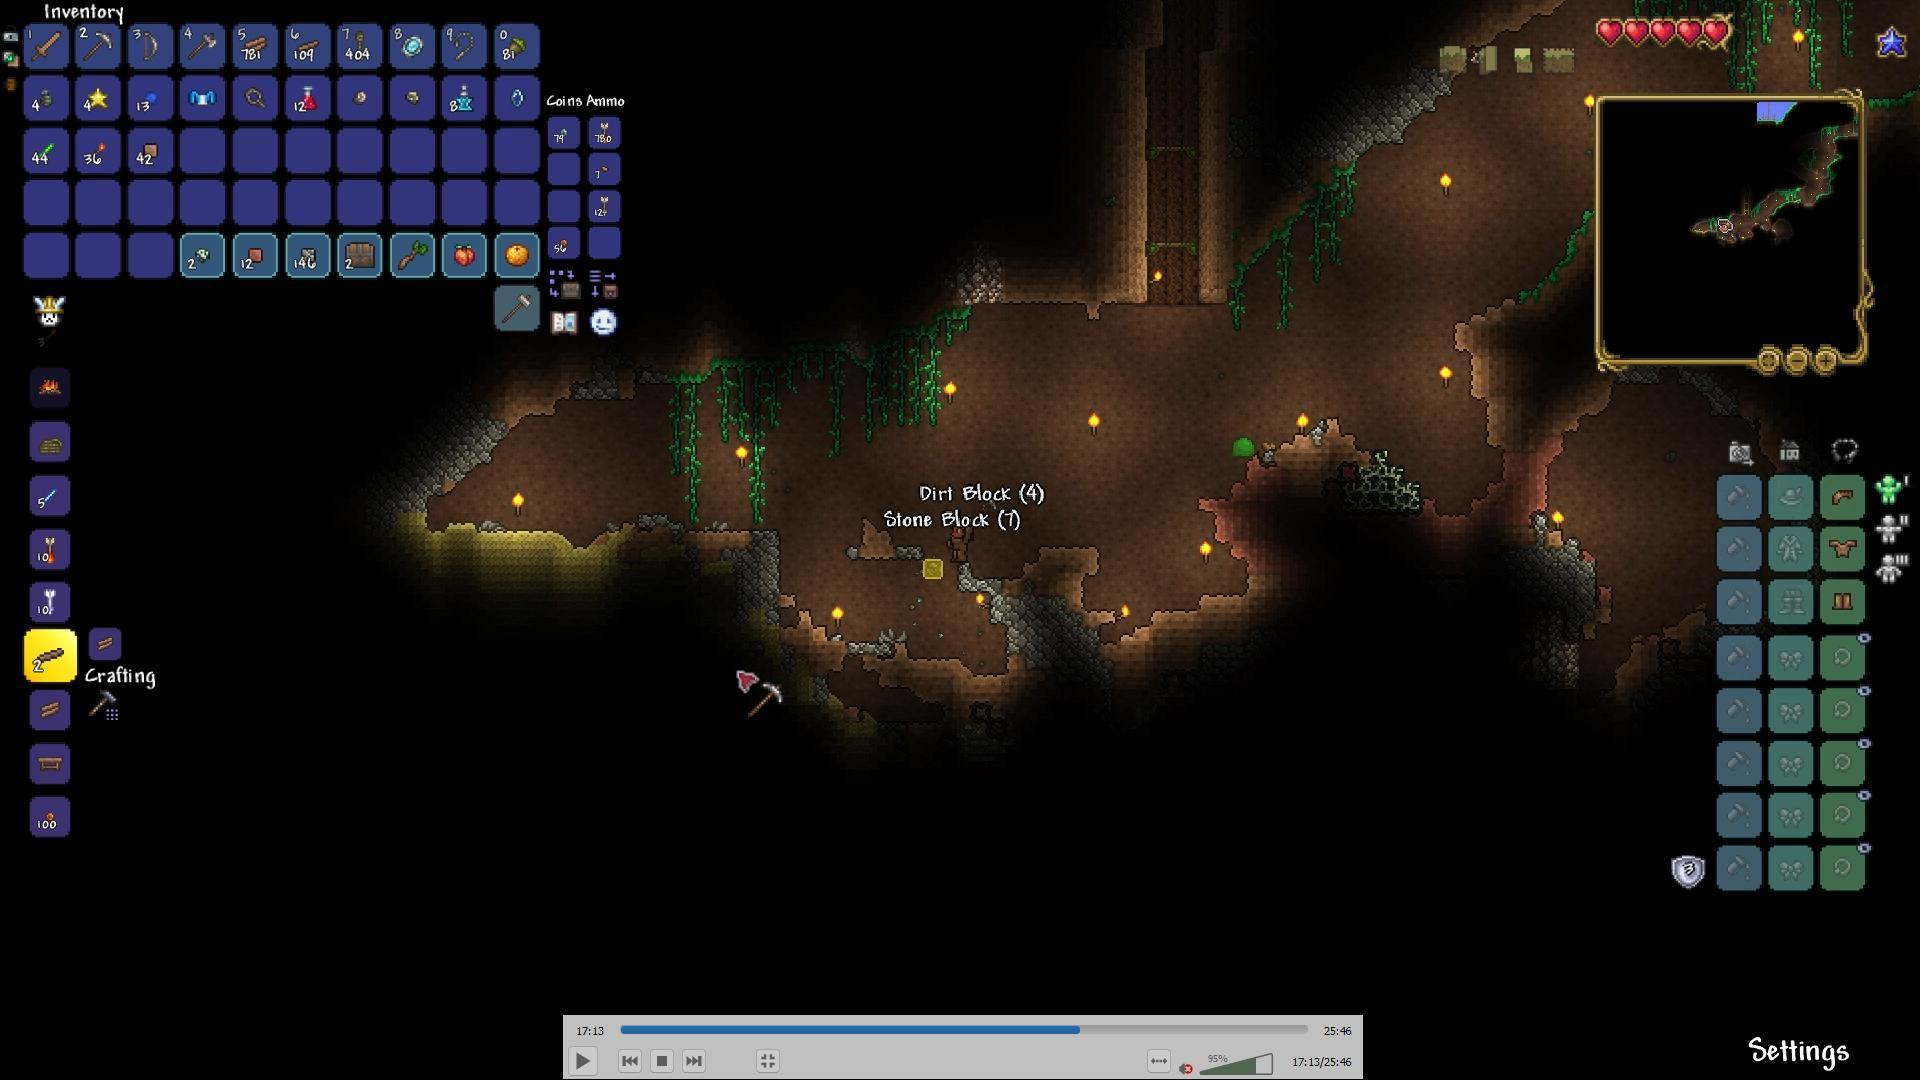chest: (343, 241, 381, 270)
potion: (298, 80, 323, 113)
recallP: (452, 80, 476, 115)
slime: (1226, 435, 1261, 463)
